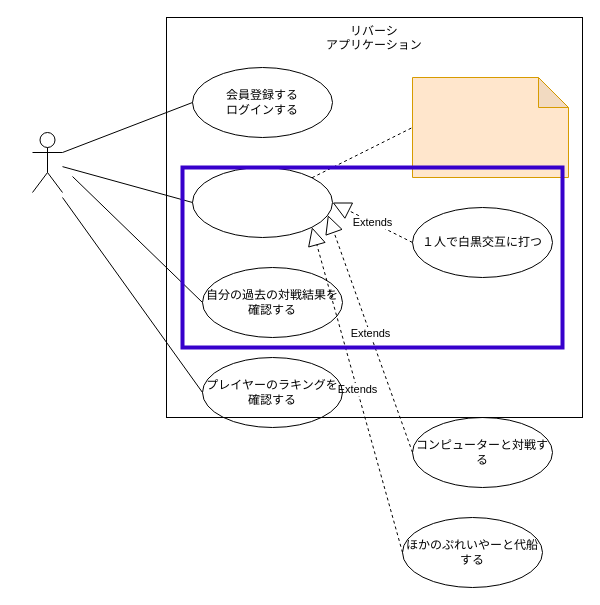
This 600x605 diagram has some shape labels left out. The centre of each missing label's shape, as x and y in pixels:
"プレイヤー" goes at pixel 47 162.
"対戦する" goes at pixel 262 202.
"対戦を開始知る 盤面を見る 石を打つ 勝敗を確認する" goes at pixel 490 127.
